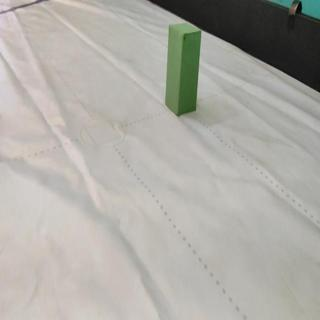greenbox: (163, 21, 202, 117)
